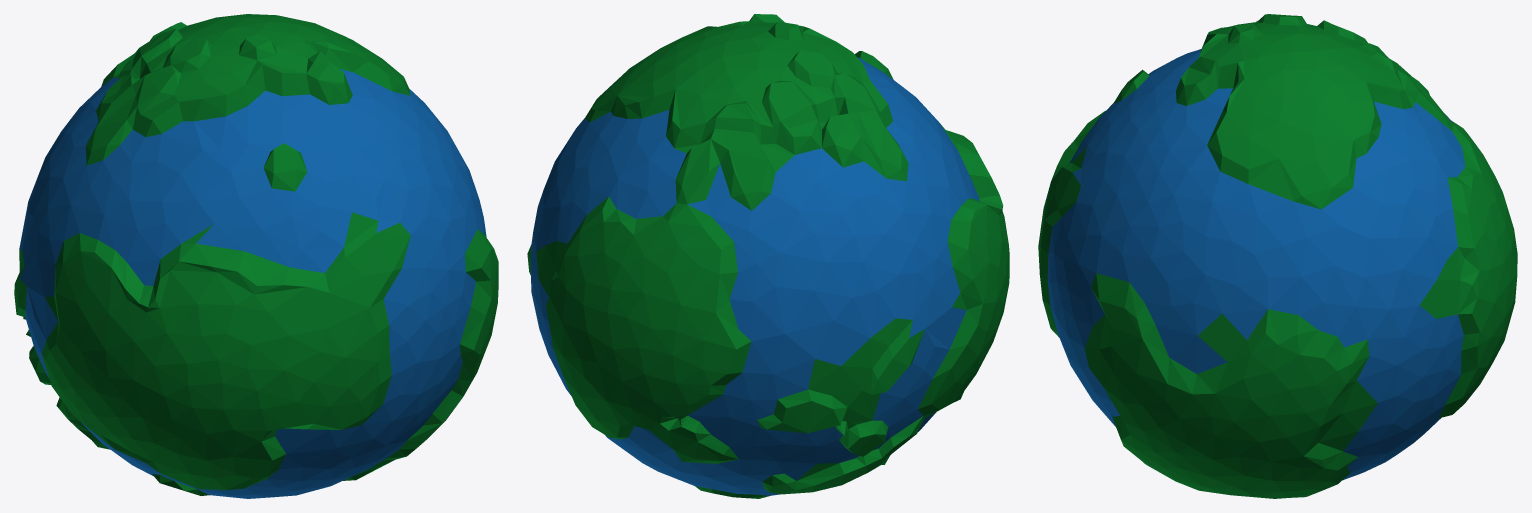
File: Planet 8.FBX
3 views of the same model, side by side, from view 1: azimuth 30°, elevation 25°; view 2: azimuth 150°, elevation 25°; view 3: azimuth 270°, elevation 25° (orthographic). The views are drawn at different scales.
Parts seen in each view (by area): view 1: Planet 8; view 2: Planet 8; view 3: Planet 8.
Boxes of the visible parts, x1,y1,x2,y2 form: Planet 8: [14, 14, 498, 498]; Planet 8: [527, 14, 1009, 498]; Planet 8: [1038, 14, 1517, 498].
Bounding box in the file's own units: 229 × 233 × 231.
